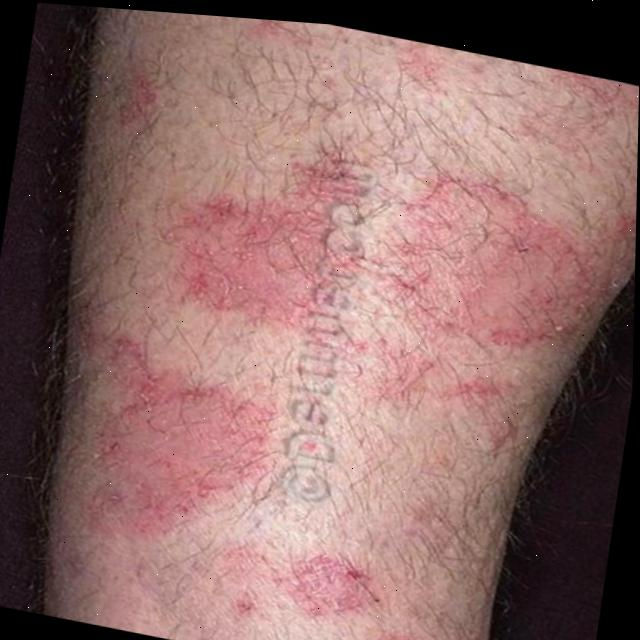Eczema: (118, 107, 587, 640)
